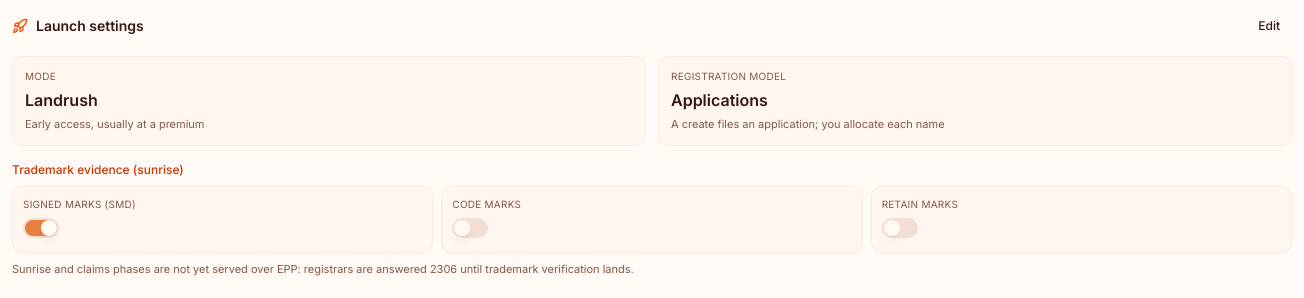
Scenario: PhaseLaunchSection › fixes the mode and the model once the phase has started
Click the button "Edit": point(1269, 26) left=1246, top=12, right=1292, bottom=40
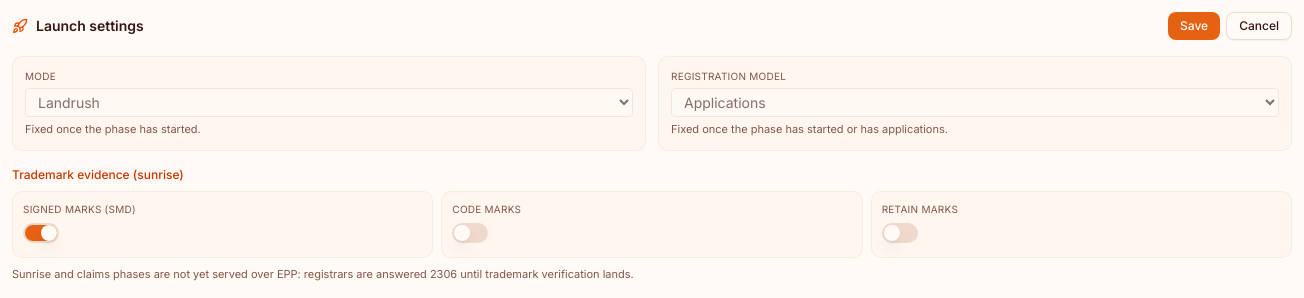
Now the dropdown named "Mode" is disabled, box left=25, top=88, right=633, bottom=117
Now the dropdown named "Registration model" is disabled, box left=671, top=88, right=1279, bottom=117
Now the text "Fixed once the phase has started." is shown, box left=25, top=122, right=201, bottom=136
